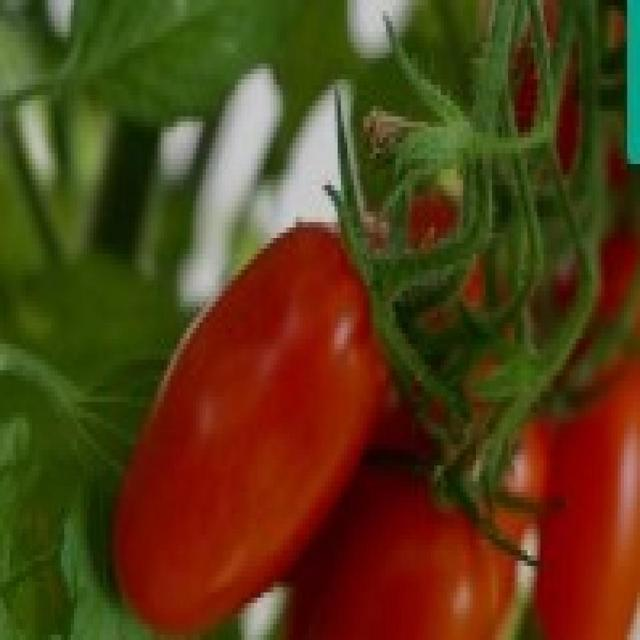Healthy Fruit: (86, 153, 256, 417)
